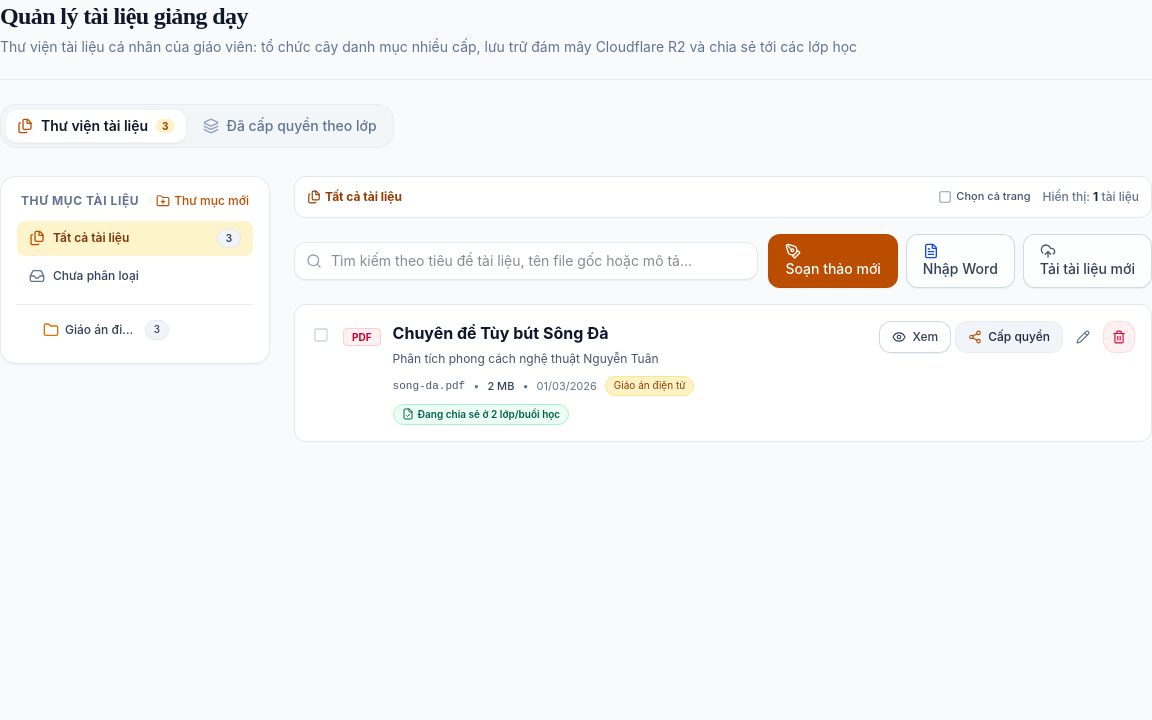
Test: TeacherDocumentsPage › opens category creation modal when clicking "Tạo thư mục"
The image size is (1152, 720).
Click the button with aria-label "Tạo thư mục" at (203, 201), box [156, 193, 249, 209]
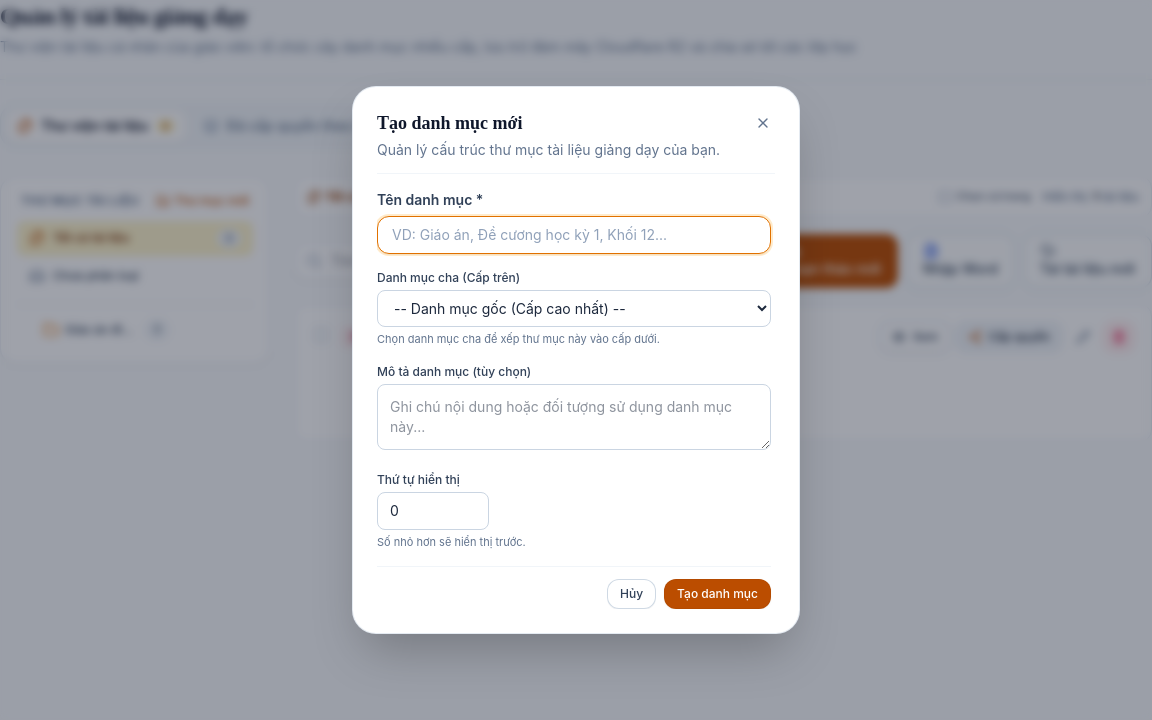
Result: the heading "Tạo danh mục mới" is shown at [377, 113, 522, 133]
Result: the field labelled "Tên danh mục *" is shown at [377, 216, 771, 254]
